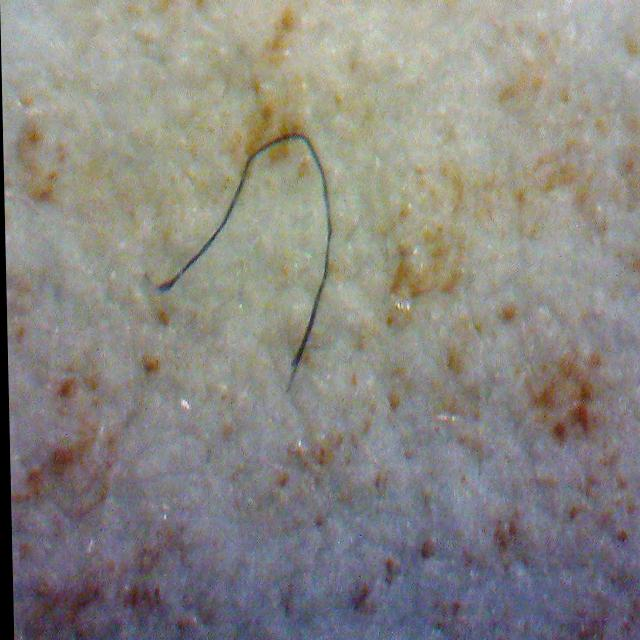microplastic: (158, 132, 331, 365)
